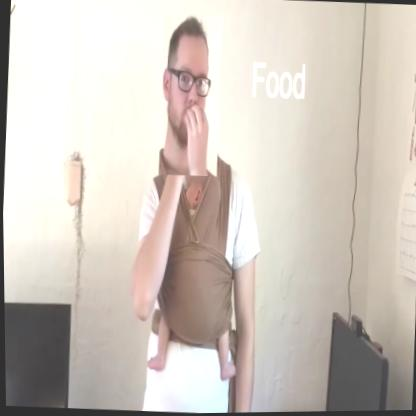Food: (156, 14, 224, 178)
